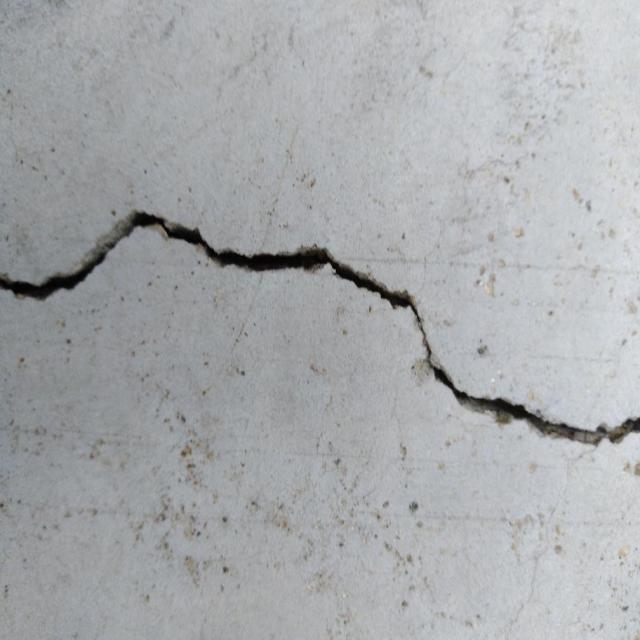diagonal crack: (0, 206, 639, 449)
